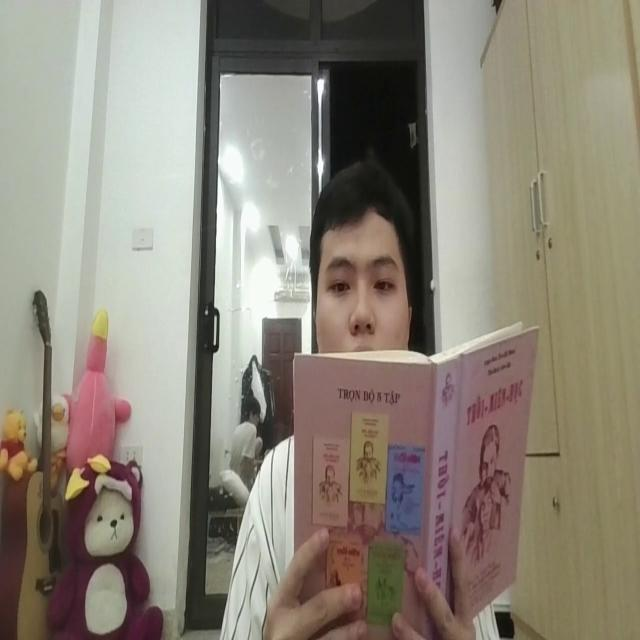book: (290, 312, 541, 630)
student: (309, 154, 414, 366)
